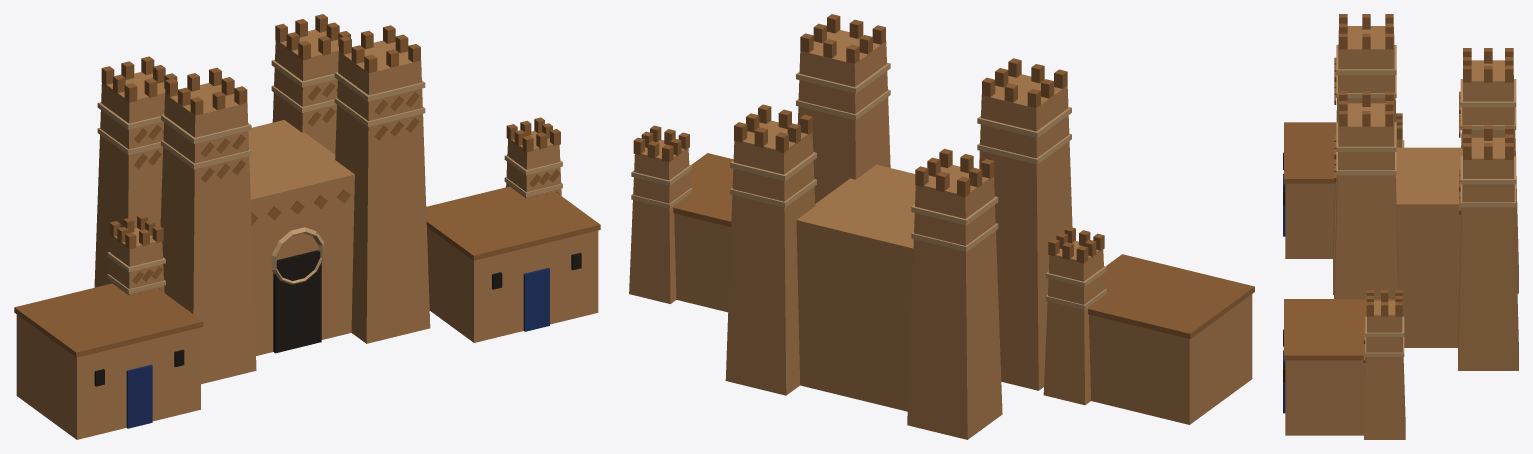
The model's file is fennec_court.glb.
3 renders of one model, left to right at view 1: azimuth 30°, elevation 25°; view 2: azimuth 150°, elevation 25°; view 3: azimuth 270°, elevation 25°, orthographic. The views are drawn at different scales.
Visible parts, largest first — view 1: fennec_court; view 2: fennec_court; view 3: fennec_court.
Part boxes in pixels (bbox=[...]): fennec_court: bbox=[14, 14, 600, 439]; fennec_court: bbox=[629, 14, 1254, 439]; fennec_court: bbox=[1283, 14, 1518, 439].
Size of the model in its own units: 6.44 by 3.23 by 2.71.
